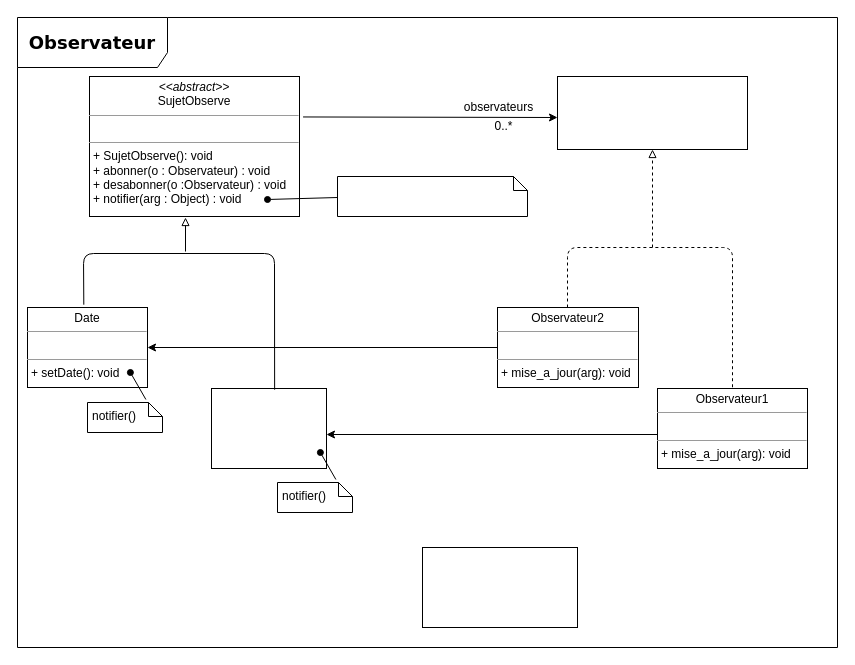
This 855x665 diagram has some shape labels left out. Each missing label, with the centre of its shape:
<<Interface>> Observateur + mise_a_jour(arg : Object) : void: the point at 652,113
Horloge + setHeure(): void: the point at 268,428
Main + main(args : String[]): void: the point at 500,587
pour tout o dans observateurs : o.mise_a_jour(arg): the point at 432,196
